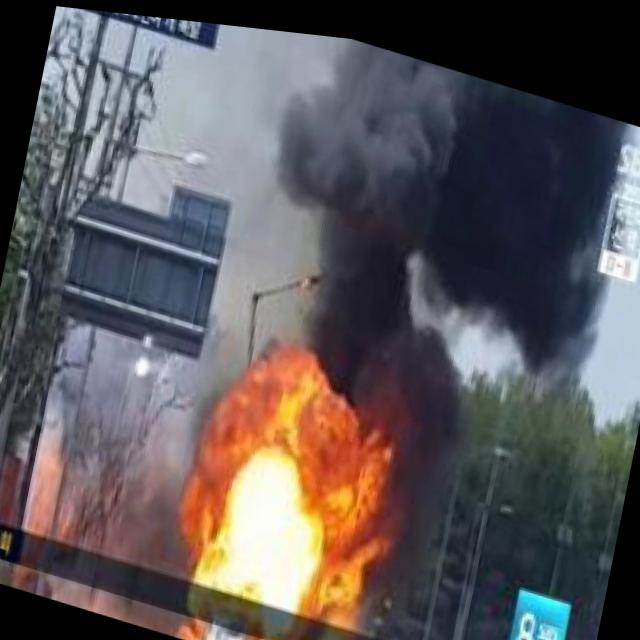Fire: (169, 366, 411, 640)
